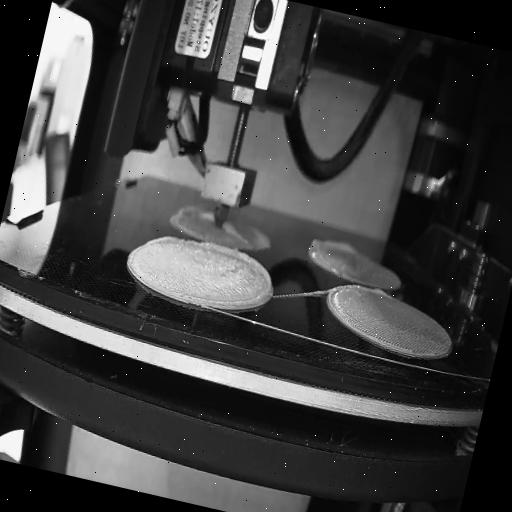over_extrusion: (183, 239, 280, 320), (308, 232, 361, 262), (146, 230, 180, 256), (217, 220, 253, 244), (364, 286, 396, 306), (199, 207, 216, 225)
